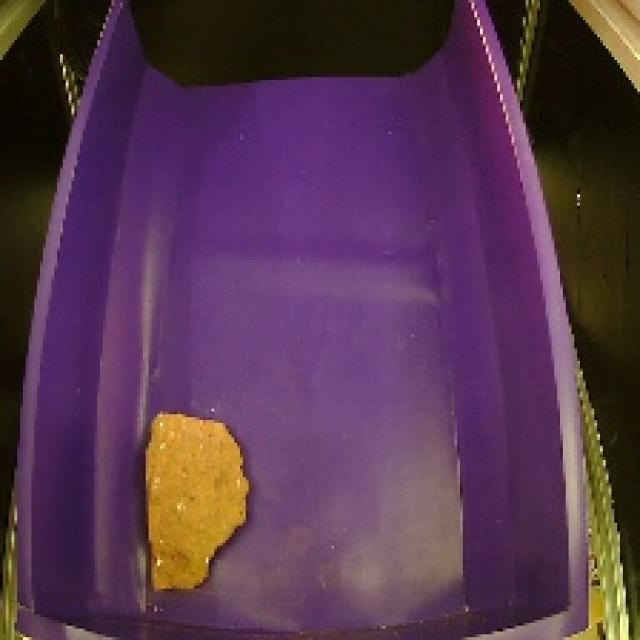brick: (130, 392, 258, 601)
